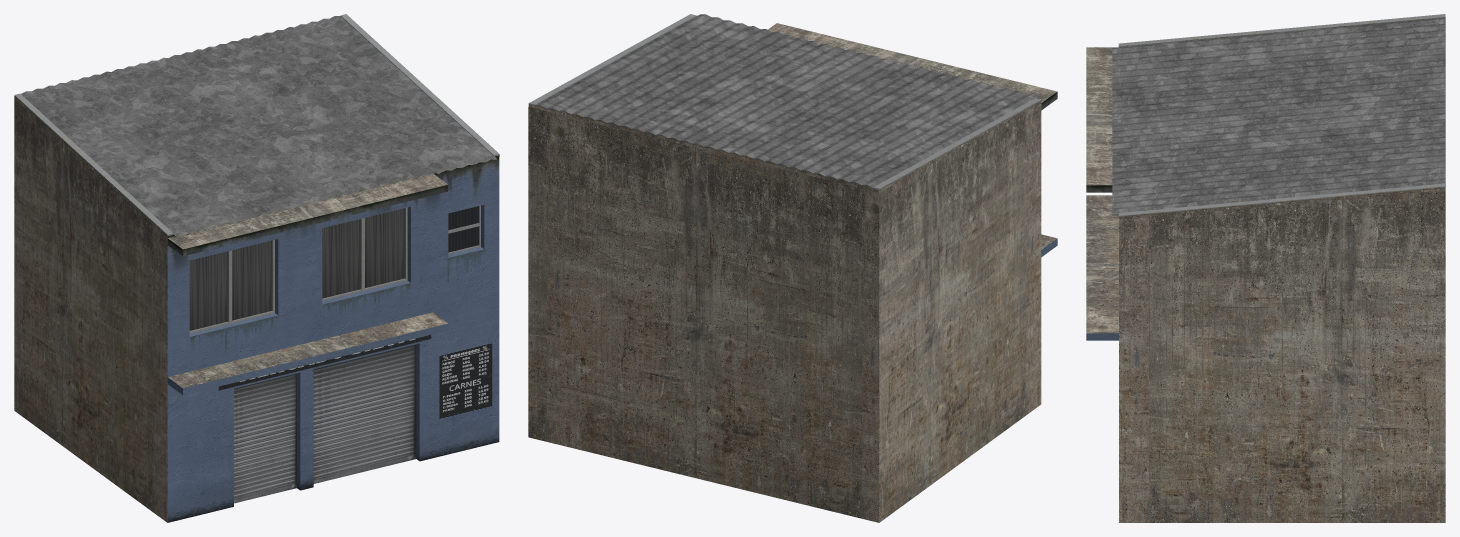
The model's file is brazillian_market01.glb.
3 views of the same model, side by side, from view 1: azimuth 30°, elevation 25°; view 2: azimuth 150°, elevation 25°; view 3: azimuth 270°, elevation 25° (orthographic). The views are drawn at different scales.
Visible parts, largest first — view 1: shop; view 2: shop; view 3: shop.
Boxes of the visible parts, box(x1,y1,x2,y2) form: shop: box(14, 14, 499, 522); shop: box(528, 14, 1057, 522); shop: box(1086, 14, 1445, 522).
Size of the model in its own units: 5 by 4.56 by 4.4.
4 materials, 4 textured.
